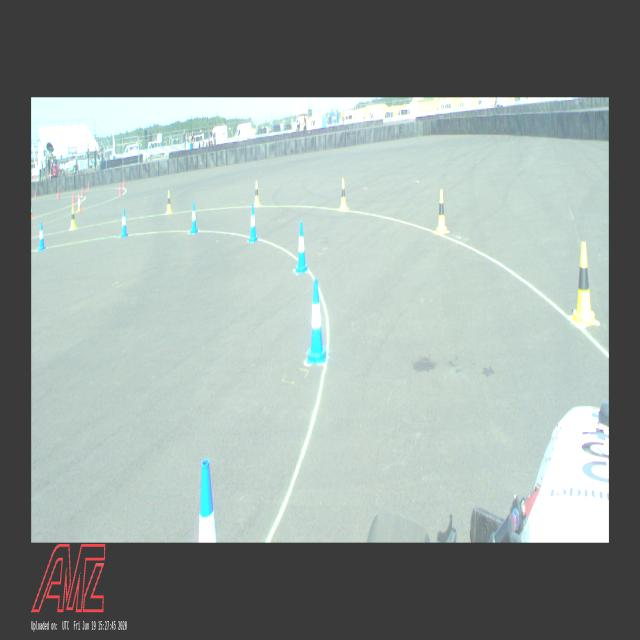blue_cone: (307, 278, 327, 362), (199, 458, 217, 542), (295, 222, 308, 272), (248, 205, 258, 242), (188, 202, 198, 234), (120, 209, 128, 238), (38, 222, 46, 250)
orange_cone: (76, 195, 82, 212), (32, 204, 34, 218)
yellow_cone: (569, 242, 598, 326), (435, 190, 449, 234), (339, 179, 349, 209), (254, 180, 262, 207), (166, 190, 173, 213), (70, 208, 76, 230)
